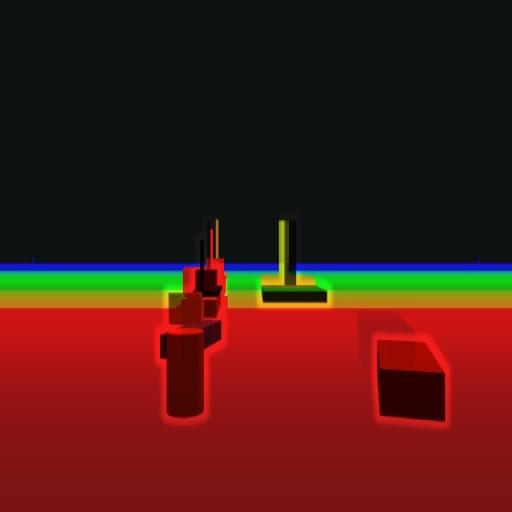platform: (258, 224, 329, 303)
